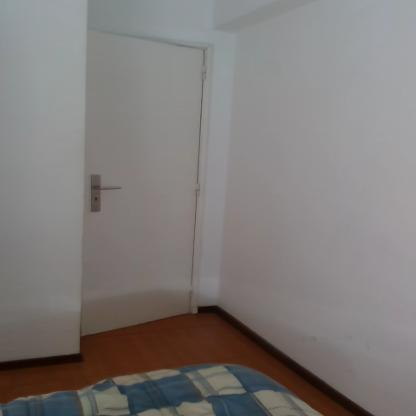closed: (83, 30, 214, 345)
